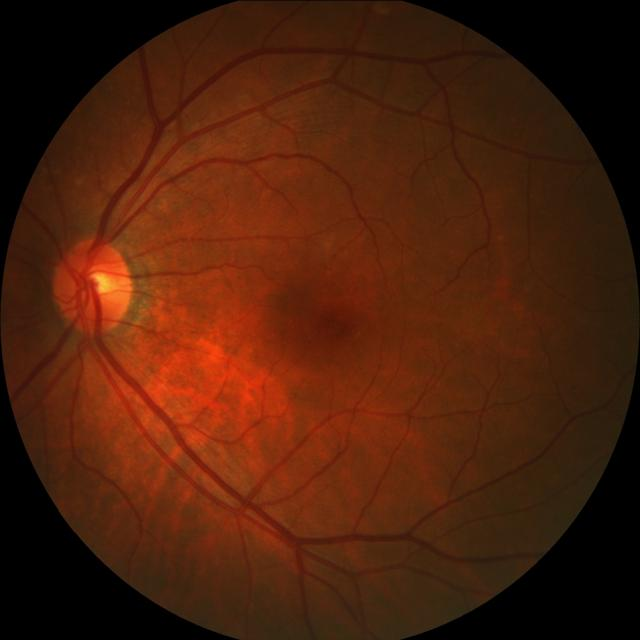OC: (78, 265, 114, 300)
OD: (53, 239, 136, 333)
